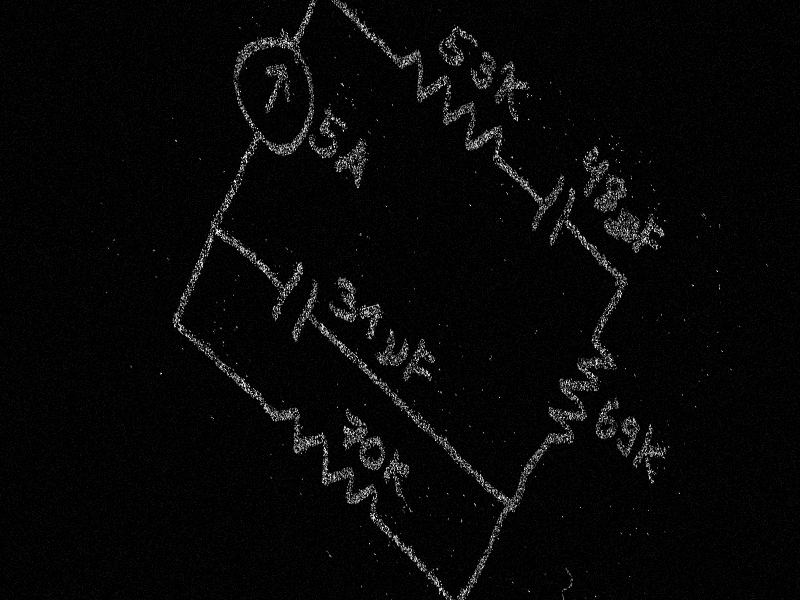0: (356, 428, 389, 479)
1: (352, 289, 387, 347)
3: (323, 269, 365, 332), (467, 44, 500, 98)
4: (571, 137, 611, 205)
5: (306, 99, 349, 169), (435, 16, 479, 81)
6: (590, 389, 626, 451)
7: (331, 402, 370, 463)
8: (593, 167, 628, 225)
9: (612, 409, 643, 464)
A: (333, 127, 374, 193)
F: (401, 334, 441, 401), (633, 211, 667, 270)
k: (489, 53, 535, 128), (629, 418, 672, 491), (380, 445, 415, 502)
u: (375, 322, 412, 380), (610, 204, 641, 253)
